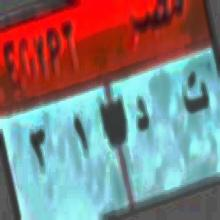1: (68, 115, 92, 170)
3: (28, 123, 51, 183)
daal: (131, 85, 153, 147)
taa: (178, 65, 211, 121)
